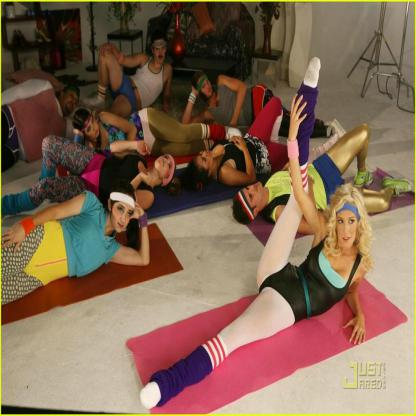face: (113, 195, 134, 233), (337, 211, 358, 248), (243, 182, 264, 207), (156, 155, 175, 179), (85, 116, 100, 139), (195, 151, 214, 169), (66, 91, 80, 114), (199, 76, 213, 98), (155, 41, 166, 64)
